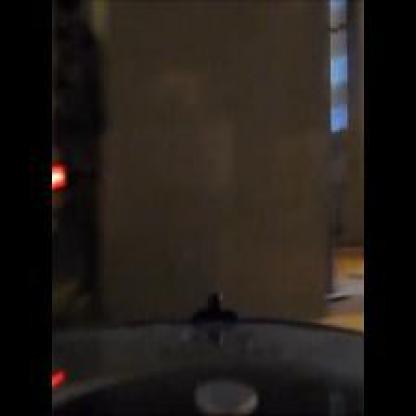other: (52, 151, 65, 193), (51, 360, 65, 387)
